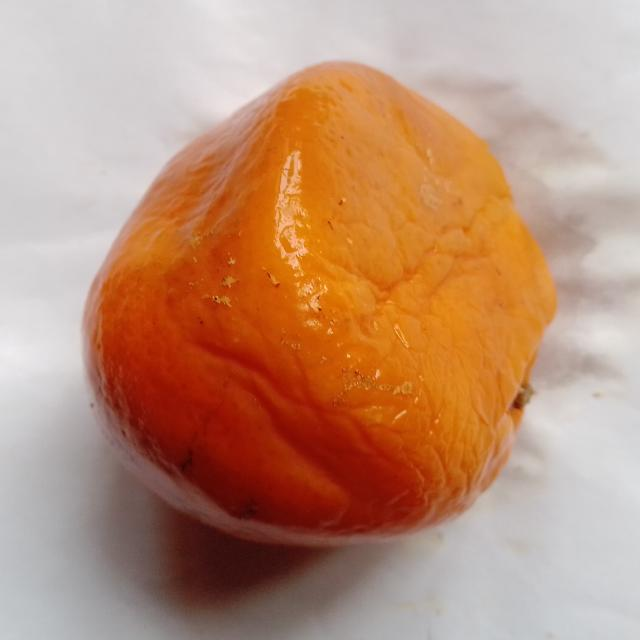orange: (85, 63, 555, 544)
